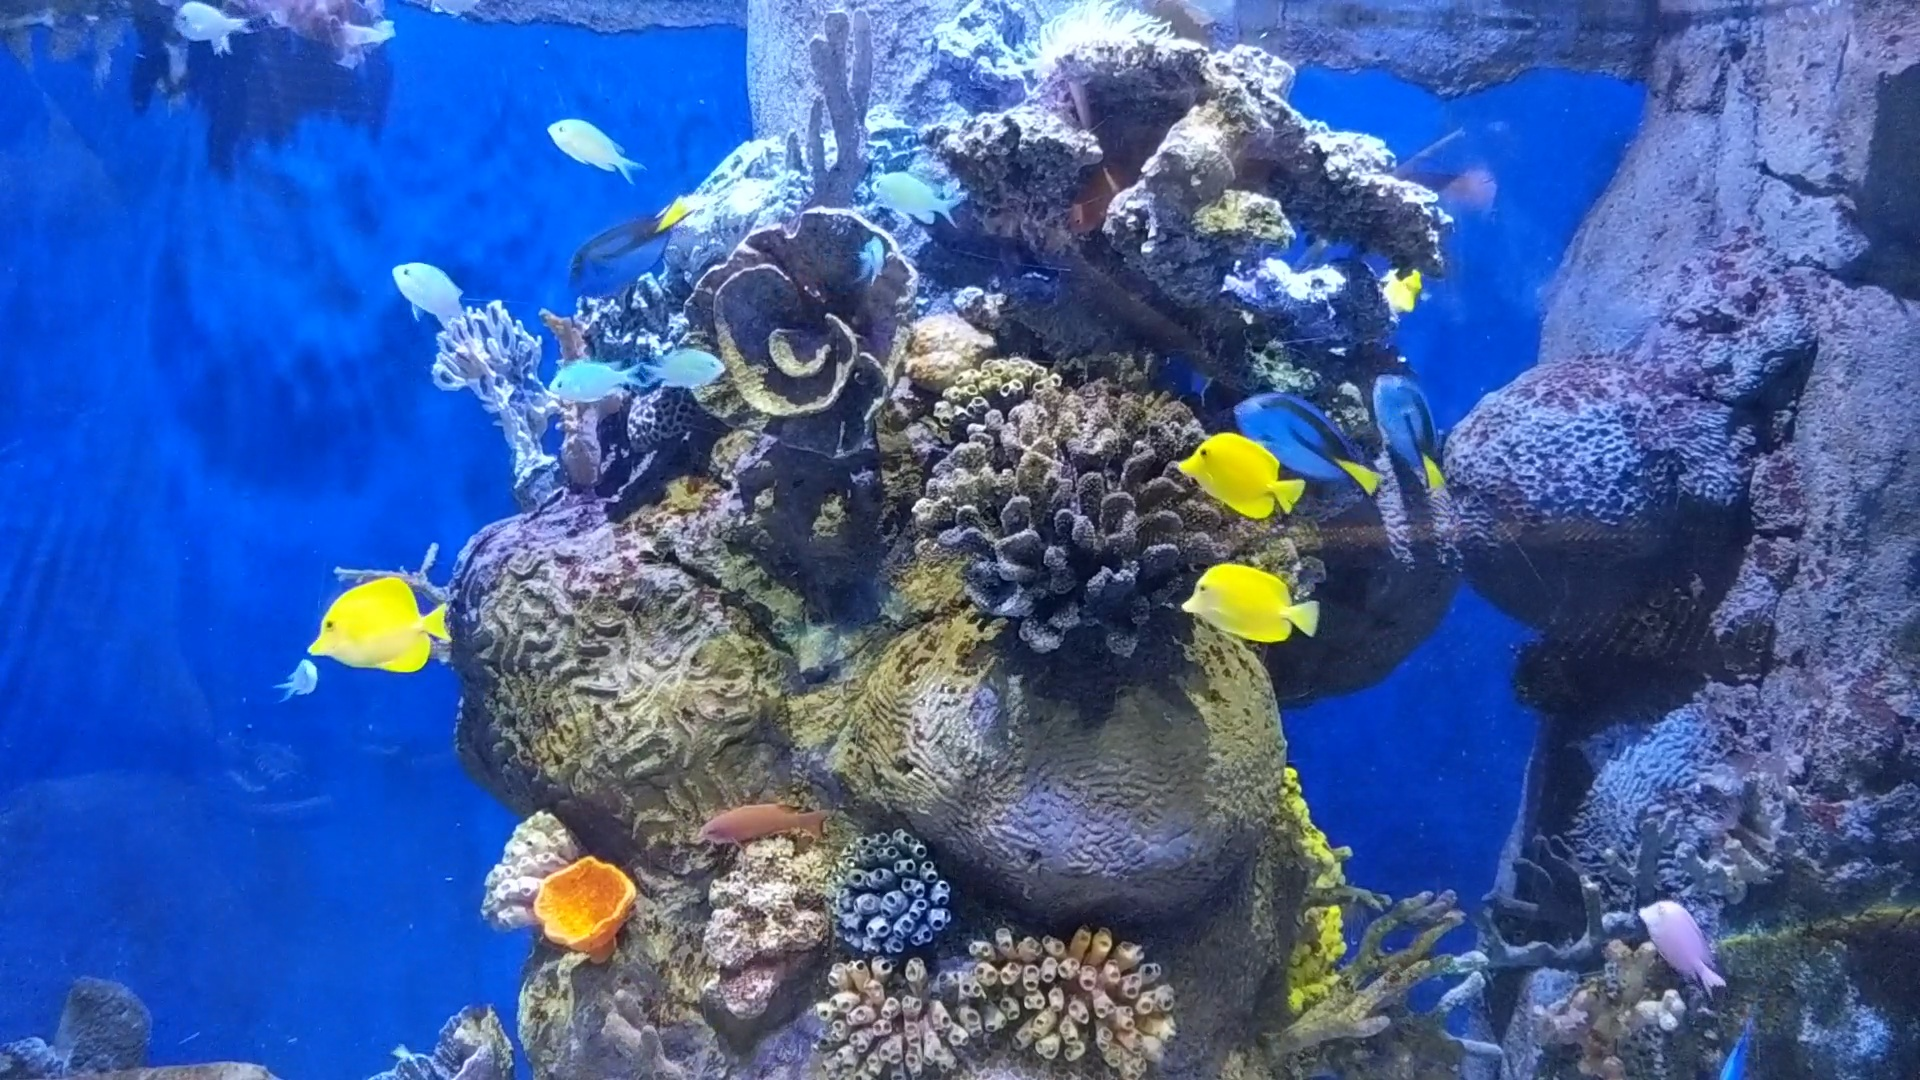blue tang surgeonfish: (1222, 384, 1385, 506), (1367, 368, 1452, 488)
damselfish: (520, 103, 644, 199), (862, 157, 965, 235), (384, 253, 480, 336), (534, 344, 642, 411), (646, 332, 733, 388), (272, 642, 326, 704), (845, 231, 891, 284)
pink fish: (1636, 880, 1730, 1000)
saddle butterfly fish: (287, 578, 456, 678), (1175, 550, 1324, 647), (1171, 426, 1305, 520)
